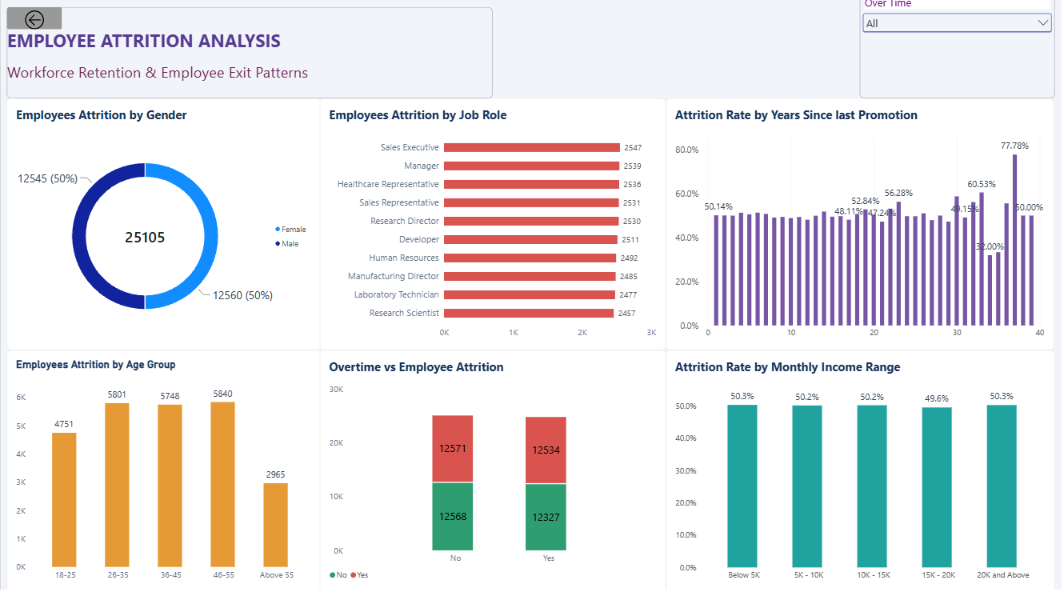

The page's visual inventory and layout, read from the dashboard file:
{"tool":"powerbi","page":{"name":"Employee Attrition","canvas":[1920,1080],"ordinal":4},"visuals":[{"type":"textbox","box":[10.9,21.7,879.5,164.7],"z":0,"group":"g1"},{"type":"donutChart","title":"Employees Attrition by Gender","fields":{"Category":["HR_Analytics.Gender"],"Y":["HR_Analytics.Employees left"]},"box":[10,186,568,456],"z":1000},{"type":"clusteredColumnChart","title":"Employees Attrition by Age Group","fields":{"Category":["HR_Analytics.Age Group"],"Y":["HR_Analytics.Employees left"]},"box":[10,642,568,438],"z":2000},{"type":"clusteredBarChart","title":"Employees Attrition by Job Role","fields":{"Category":["HR_Analytics.JobRole"],"Y":["HR_Analytics.Employees left"]},"box":[578,186,626,456],"z":3000},{"type":"columnChart","title":"Overtime vs Employee Attrition","fields":{"Category":["HR_Analytics.OverTime"],"Series":["HR_Analytics.Attrition"],"Y":["HR_Analytics.Total Employees"]},"box":[578,642,626,438],"z":4000},{"type":"clusteredColumnChart","title":"Attrition Rate by Years Since last Promotion","fields":{"Category":["HR_Analytics.YearsSinceLastPromotion"],"Y":["HR_Analytics.Attrition Rate"]},"box":[1203.4,186.4,702.1,456],"z":5000},{"type":"clusteredColumnChart","title":"Attrition Rate by Monthly Income Range","fields":{"Category":["HR_Analytics.Income Range"],"Y":["HR_Analytics.Attrition Rate"]},"box":[1203.4,642.4,704,437.9],"z":6000},{"type":"actionButton","box":[10.9,21.7,100,40],"z":11000,"group":"g1"},{"type":"slicer","fields":{"Values":["HR_Analytics.OverTime"]},"box":[1554.5,21.7,352.9,164.7],"z":13000},{"type":"group","id":"g1","title":"Group 1","box":[10.9,21.7,879.5,164.7],"z":13001}]}

Visuals, with their boxes in screenshot pixels (x1, y1, x2, y2), scaled from the page's 1920x1080 canvas onto the 1062x590 screenshot:
textbox: Rect(6, 12, 493, 102)
"Employees Attrition by Gender" donutChart: Rect(6, 102, 320, 351)
"Employees Attrition by Age Group" clusteredColumnChart: Rect(6, 351, 320, 589)
"Employees Attrition by Job Role" clusteredBarChart: Rect(320, 102, 666, 351)
"Overtime vs Employee Attrition" columnChart: Rect(320, 351, 666, 589)
"Attrition Rate by Years Since last Promotion" clusteredColumnChart: Rect(666, 102, 1054, 351)
"Attrition Rate by Monthly Income Range" clusteredColumnChart: Rect(666, 351, 1055, 589)
actionButton: Rect(6, 12, 61, 34)
slicer - HR_Analytics.OverTime: Rect(860, 12, 1055, 102)
"Group 1" group: Rect(6, 12, 493, 102)
